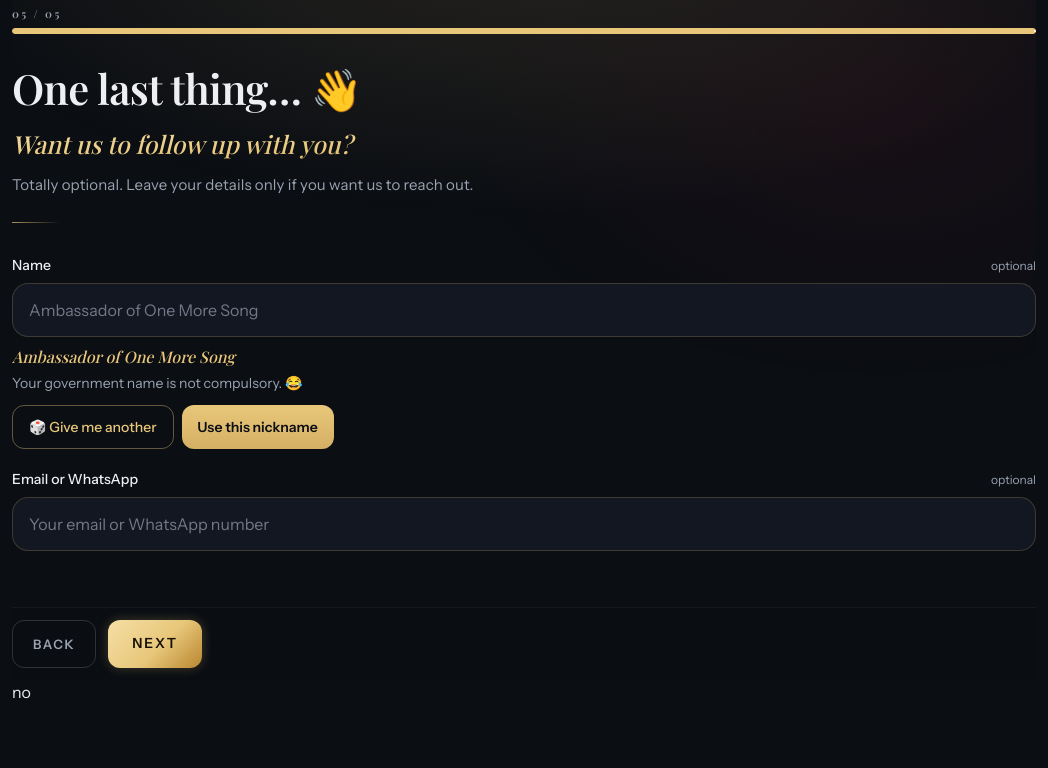
it: ContactScreen nickname generator › fills the field on "Use this nickname", flags it generated, and a manual edit clears the flag
The width and height of the screenshot is (1048, 768).
Expected: the text with test id "generated-flag" reads "no", [12, 682, 31, 702]
Click the button "Use this nickname" at (258, 427), box [182, 405, 334, 449]
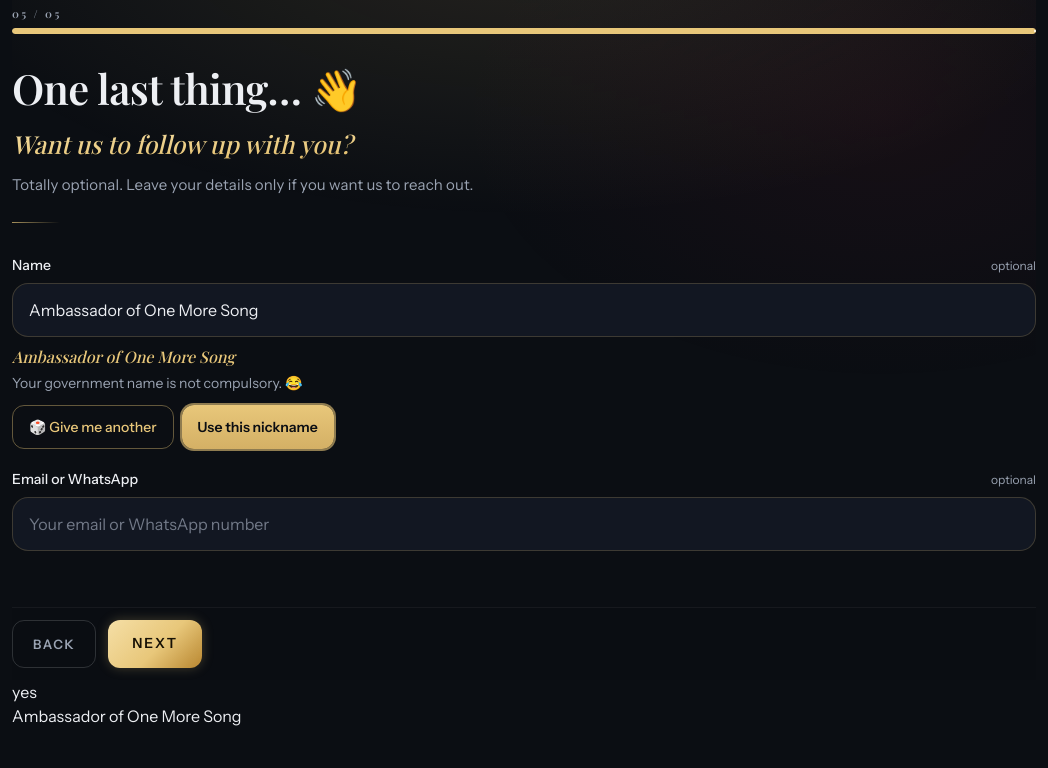
Result: the text with test id "chosen-name" reads "Ambassador of One More Song" at [12, 706, 242, 726]
Result: the text with test id "generated-flag" reads "yes" at [12, 682, 37, 702]
Type "!" into the field labelled "Name optional" at (524, 310), box [12, 283, 1036, 337]
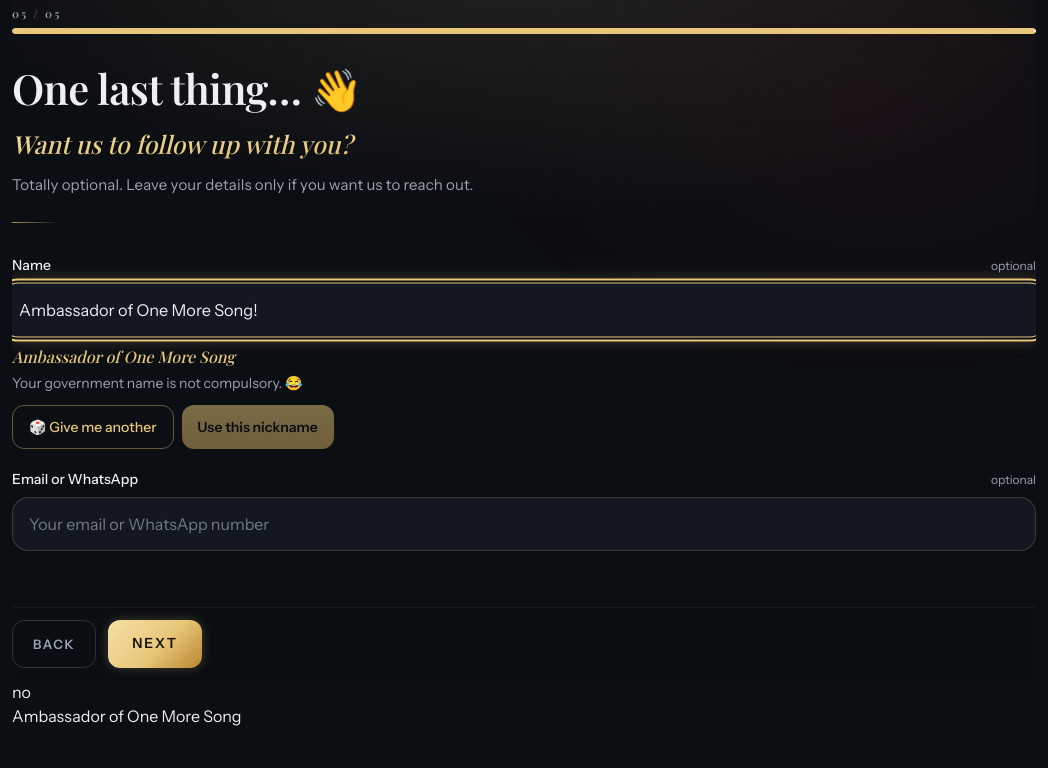
Result: the text with test id "generated-flag" reads "no" at [12, 682, 31, 702]
